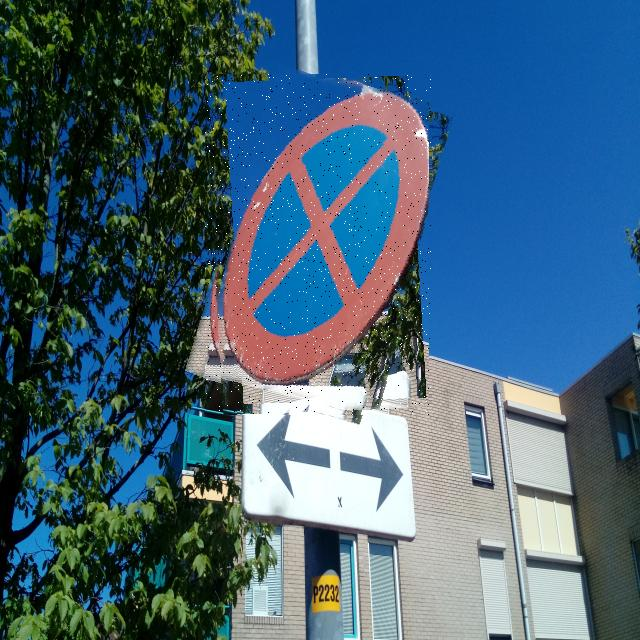no stopping: (206, 74, 432, 415)
